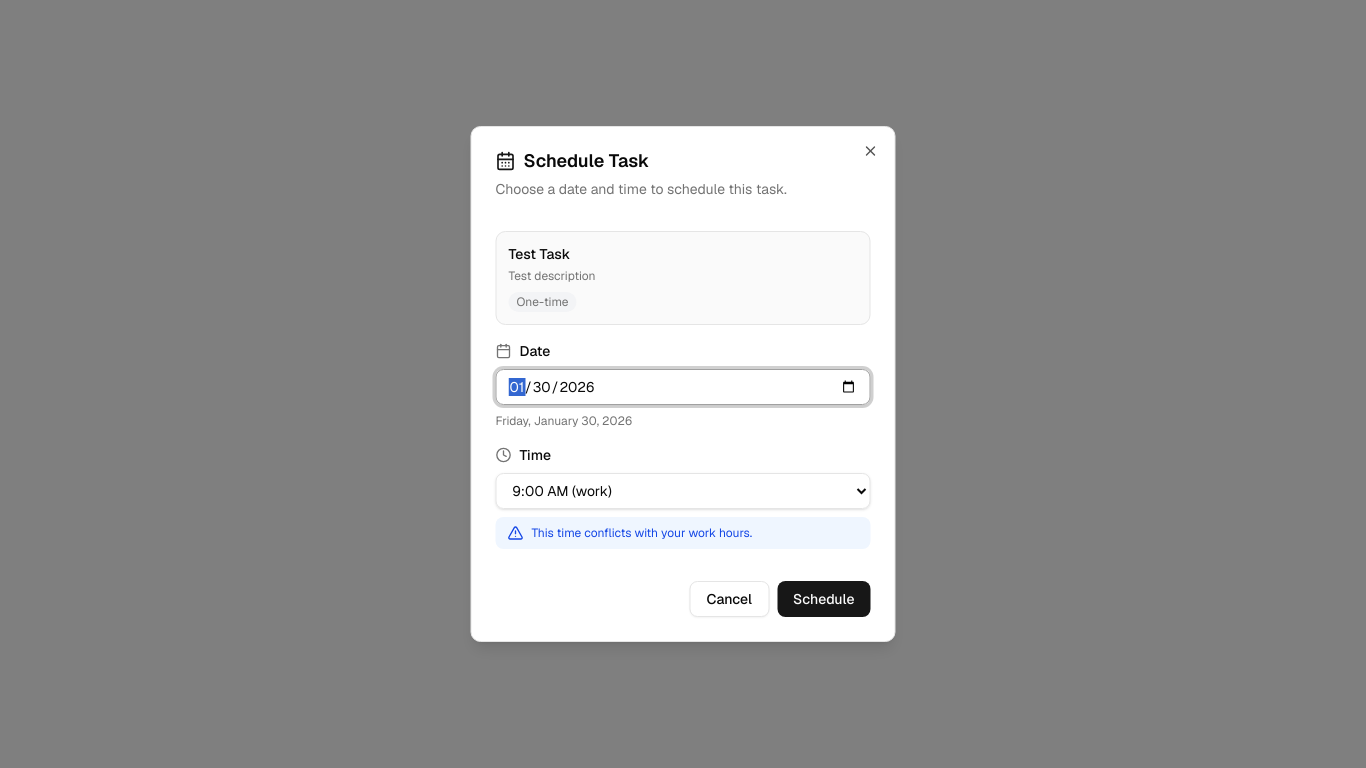
Test: ScheduleTaskDialog › actions › disables buttons while scheduling
Click the button with test id "schedule-task-dialog-schedule-btn": click(824, 599) [777, 581, 870, 617]
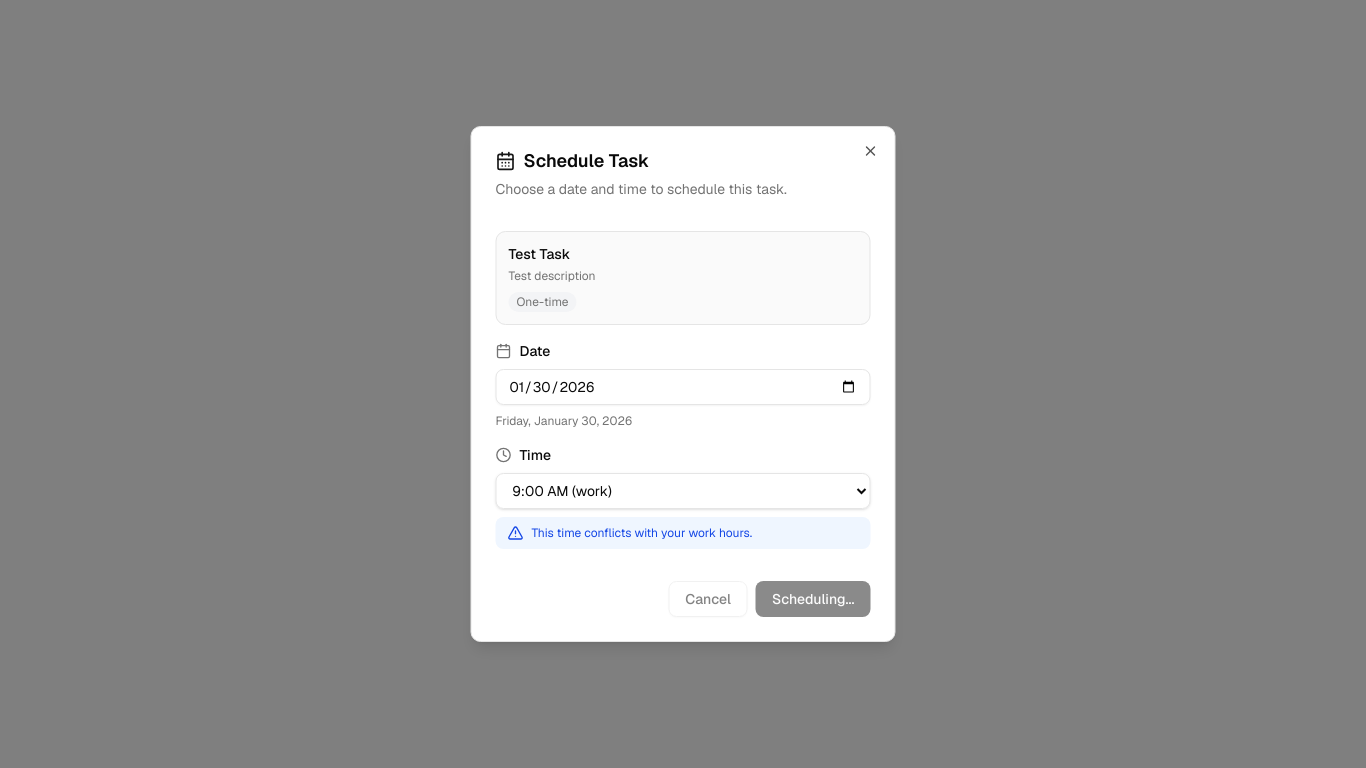
Result: the button with test id "schedule-task-dialog-schedule-btn" is disabled at [756, 581, 870, 617]
Result: the button with test id "schedule-task-dialog-cancel-btn" is disabled at [668, 581, 748, 617]
